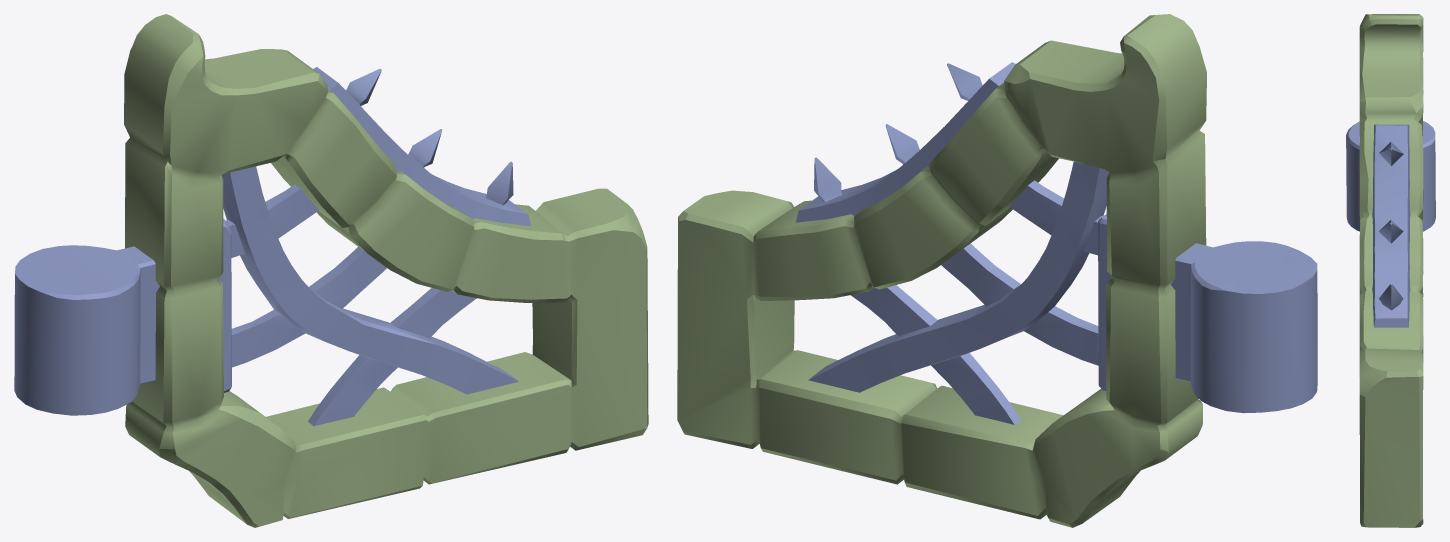
Rendered from SM_Fence_Door_Door_3.fbx.
3 views of the same model, side by side, from view 1: azimuth 30°, elevation 25°; view 2: azimuth 150°, elevation 25°; view 3: azimuth 270°, elevation 25° (orthographic). The views are drawn at different scales.
Visible parts, largest first — view 1: SM_Fence_Door_Door_3; view 2: SM_Fence_Door_Door_3; view 3: SM_Fence_Door_Door_3.
Part boxes in pixels (box(x1,y1,x2,y2)): SM_Fence_Door_Door_3: box(14, 14, 648, 527); SM_Fence_Door_Door_3: box(677, 14, 1317, 527); SM_Fence_Door_Door_3: box(1346, 14, 1435, 527).
Size of the model in its own units: 87.08 by 68.66 by 15.59.
